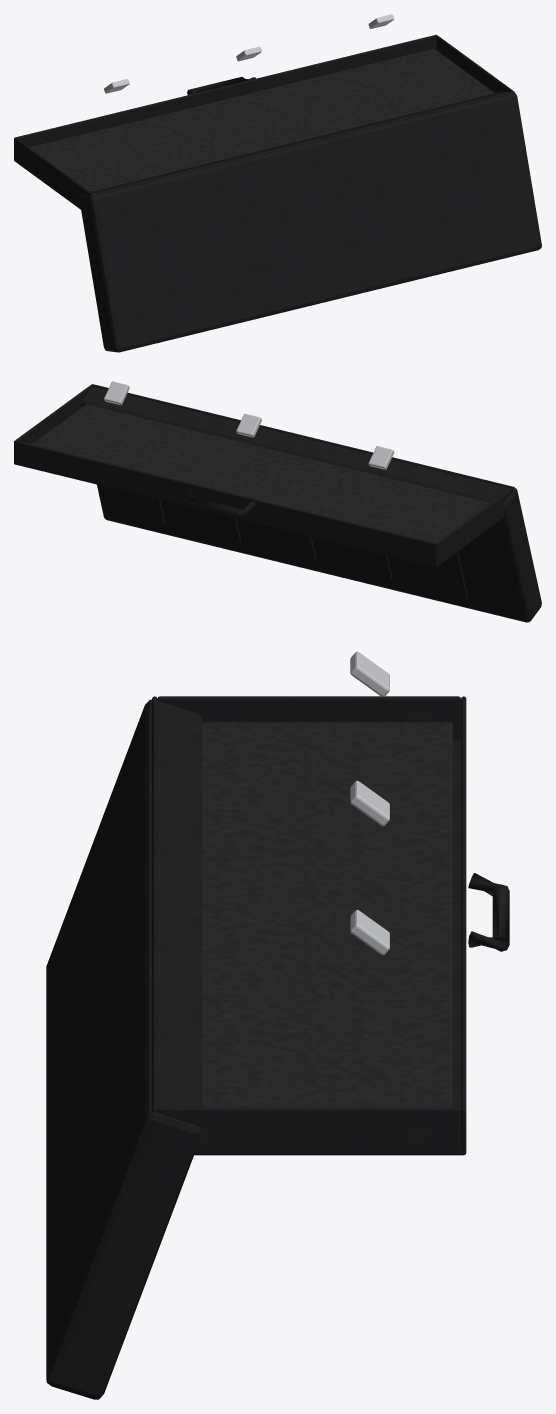
Rendered from lootbox_riflecase_open.glb.
3 views of the same model, one above another, from view 1: azimuth 30°, elevation 25°; view 2: azimuth 150°, elevation 25°; view 3: azimuth 270°, elevation 25° (orthographic). The views are drawn at different scales.
Parts seen in each view (by area): view 1: lid, foam, rc_front, rc_left, rc_back, rc_right; view 2: lid, foam, rc_front, rc_left, rc_back, rc_right, handle, rc_floor, latch2, latch1, latch0, rib0; view 3: foam, lid, rc_right, rc_left, rc_floor, rc_front, rc_back, handle, latch1, latch0, latch2.
Boxes of the visible parts, x1,y1,x2,y2 form: lid: (79,91,541,352); foam: (30,48,494,191); rc_front: (14,34,437,159); rc_left: (15,138,92,208); rc_back: (91,91,514,196); rc_right: (436,35,512,92); lid: (81,386,541,622); foam: (31,404,490,542); rc_front: (14,440,437,566); rc_left: (436,487,513,564); rc_back: (91,384,514,489); rc_right: (15,385,92,444); handle: (187,487,256,517); rc_floor: (14,463,504,567); latch2: (104,381,129,405); latch1: (236,413,261,437); latch0: (368,446,394,469); rib0: (451,552,467,598); foam: (202,722,453,1107); lid: (46,699,202,1399); rc_right: (157,1107,460,1154); rc_left: (157,696,460,740); rc_floor: (193,740,465,1155); rc_front: (461,696,466,1154); rc_back: (152,696,157,1112); handle: (468,873,509,951); latch1: (350,780,389,826); latch0: (350,651,389,697); latch2: (350,909,389,955).
Bounding box in the file's own units: 1.13 × 0.5139 × 0.5311.
3 materials, 2 textured.
